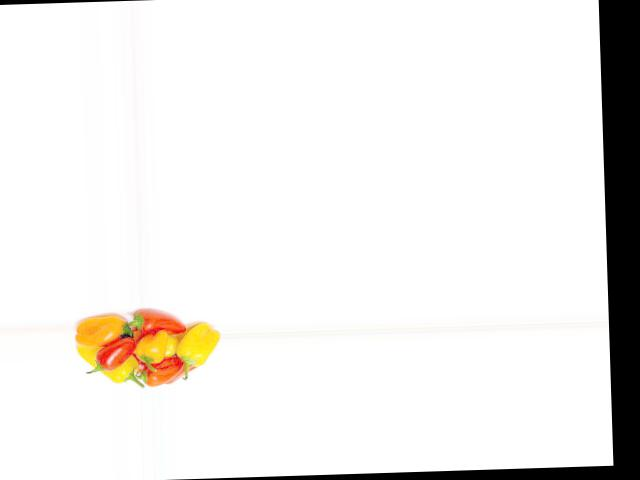bell_pepper: (77, 342, 139, 388)
